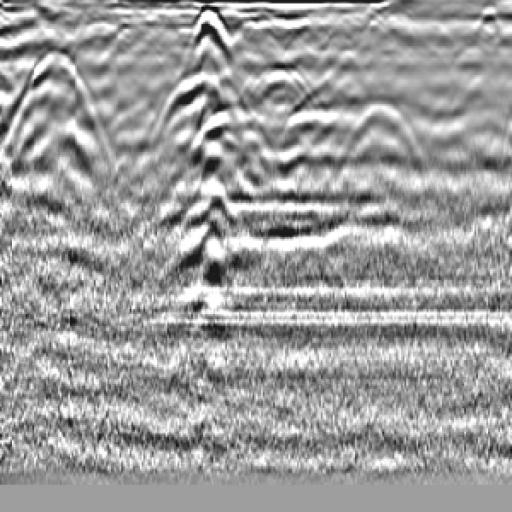metalic: (158, 12, 254, 417)
nonmetalic: (1, 46, 113, 192), (231, 44, 341, 164)
